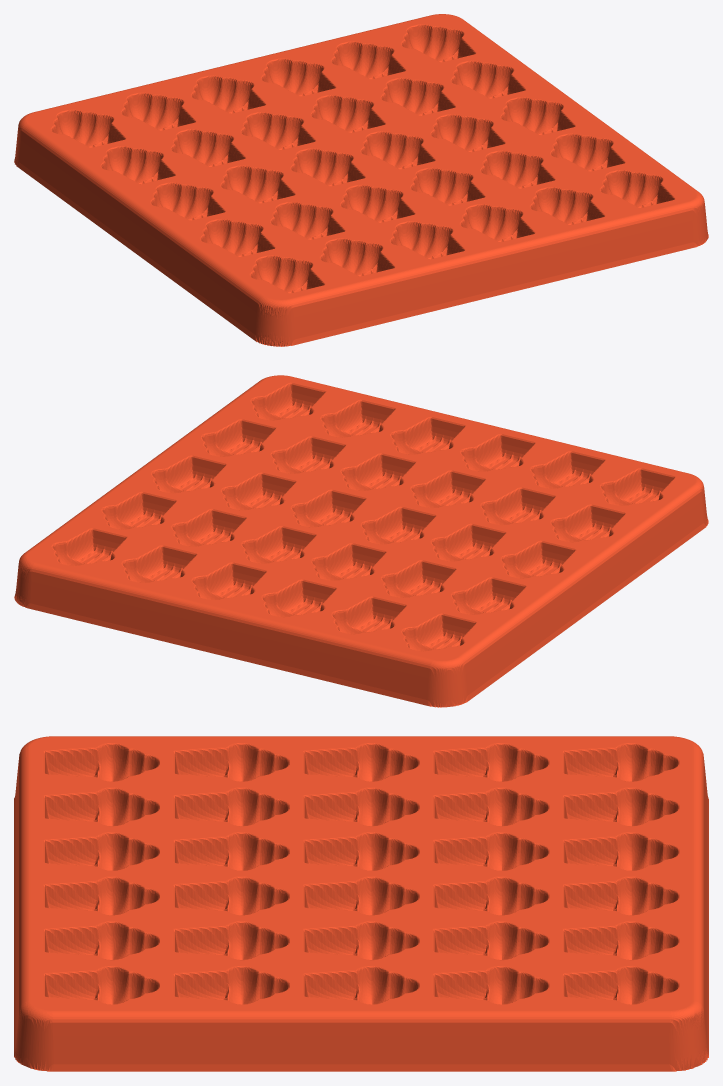
File: mold.glb
3 views of the same model, one above another, from view 1: azimuth 30°, elevation 25°; view 2: azimuth 150°, elevation 25°; view 3: azimuth 270°, elevation 25° (orthographic). The views are drawn at different scales.
Parts seen in each view (by area): view 1: geometry_0; view 2: geometry_0; view 3: geometry_0.
Part boxes in pixels (<box>): geometry_0: <box>14,14,708,346</box>; geometry_0: <box>14,375,708,707</box>; geometry_0: <box>14,736,708,1071</box>.
Bounding box in the file's own units: 0.1545 × 0.0136 × 0.1581.
